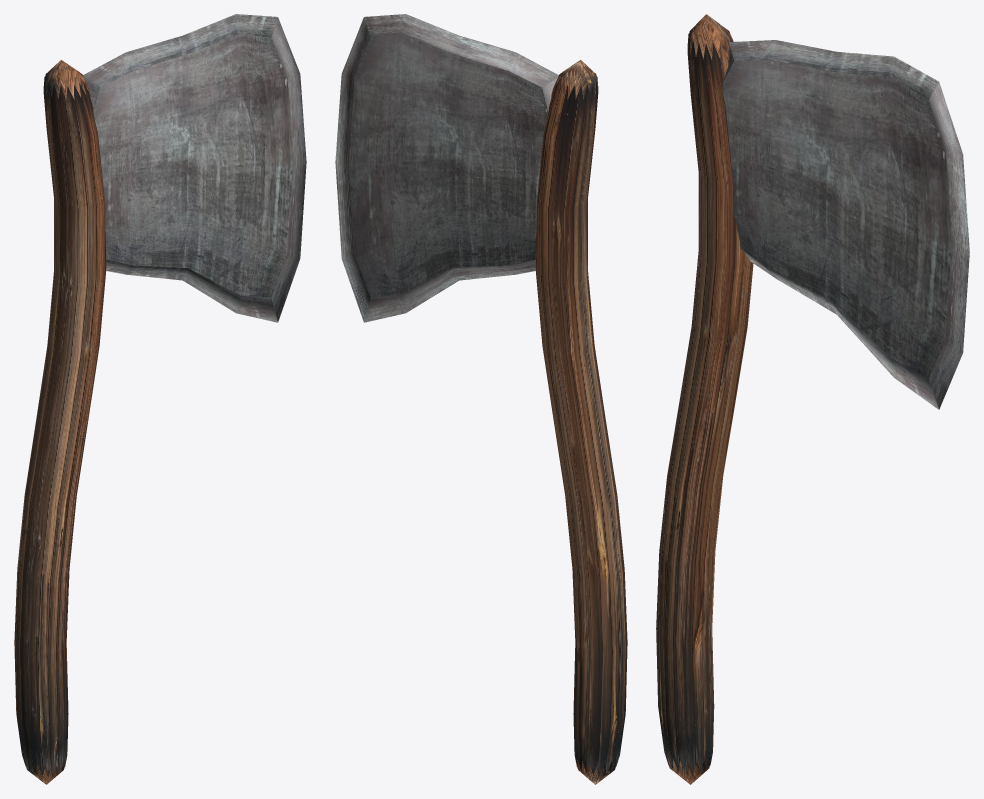
Rendered from axe.FBX.
3 views of the same model, side by side, from view 1: azimuth 30°, elevation 25°; view 2: azimuth 150°, elevation 25°; view 3: azimuth 330°, elevation 25° (orthographic). The views are drawn at different scales.
Parts seen in each view (by area): view 1: Box001, Cylinder001; view 2: Box001, Cylinder001; view 3: Box001, Cylinder001.
Boxes of the visible parts, x1=… form: Box001: x1=83, y1=14, x2=306, y2=322; Cylinder001: x1=14, y1=60, x2=106, y2=784; Box001: x1=335, y1=14, x2=558, y2=322; Cylinder001: x1=535, y1=60, x2=627, y2=784; Box001: x1=722, y1=40, x2=969, y2=409; Cylinder001: x1=656, y1=14, x2=753, y2=784.
Bounding box in the file's own units: 49.44 × 119 × 7.75.
